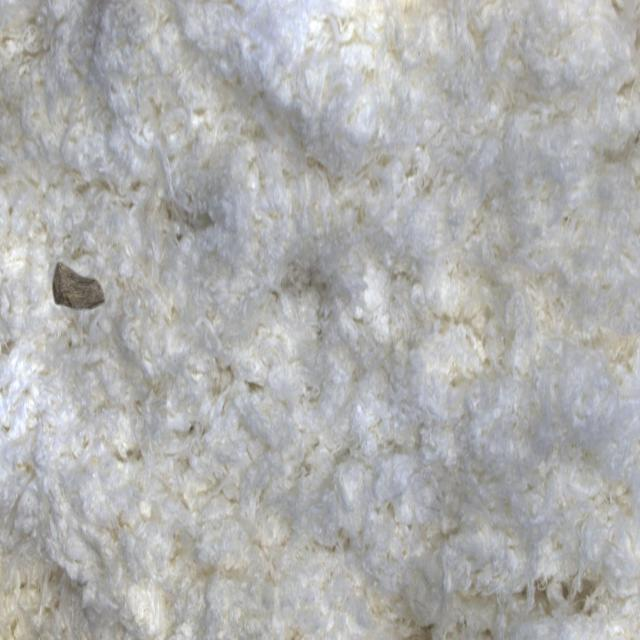dust: (17, 196, 136, 362)
